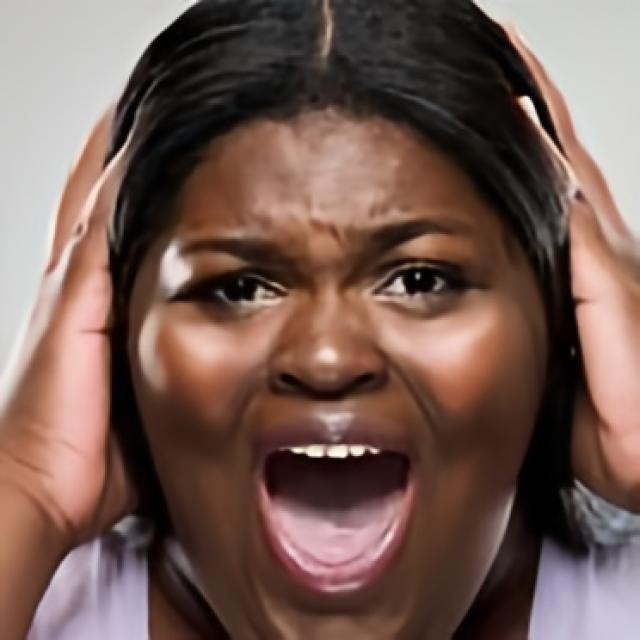fear: (126, 84, 554, 640)
